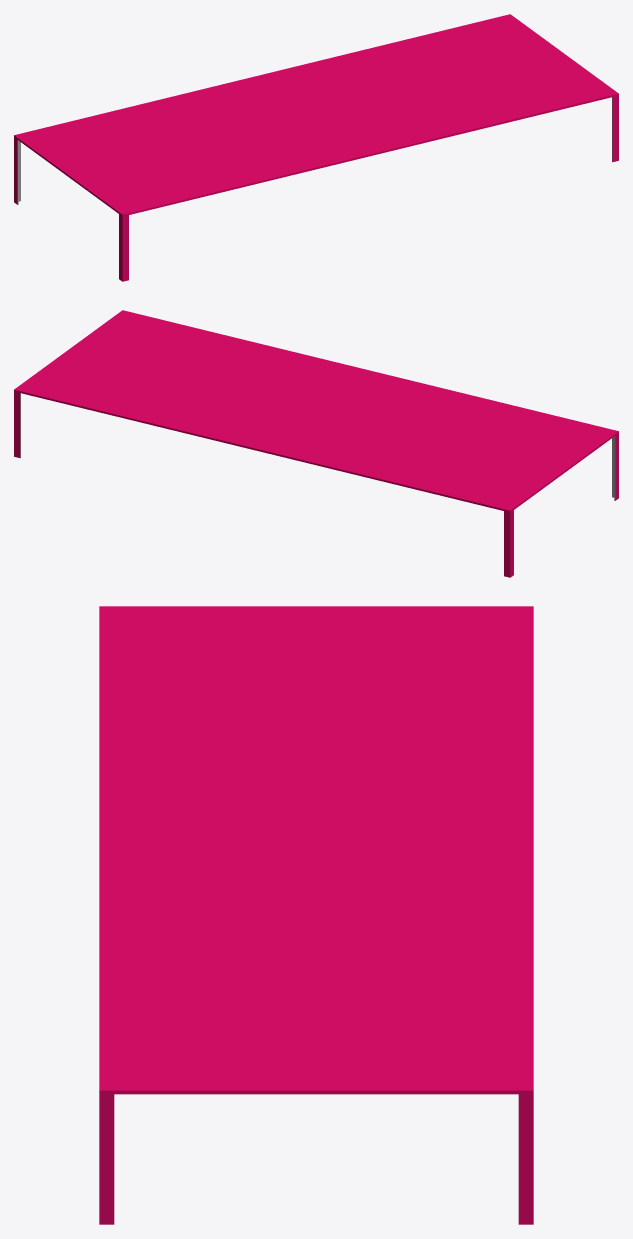
The model's file is PaperDinerTable.fbx.
The picture shows the model from 3 angles, top to bottom: view 1: azimuth 30°, elevation 25°; view 2: azimuth 150°, elevation 25°; view 3: azimuth 270°, elevation 25°; orthographic projection. The views are drawn at different scales.
Visible parts, largest first — view 1: pCube182; view 2: pCube182; view 3: pCube182.
Boxes of the visible parts, x1,y1,x2,y2 form: pCube182: (14,14,618,281); pCube182: (14,310,618,577); pCube182: (99,606,533,1224).
Size of the model in its own units: 76.5 by 9.88 by 29.
